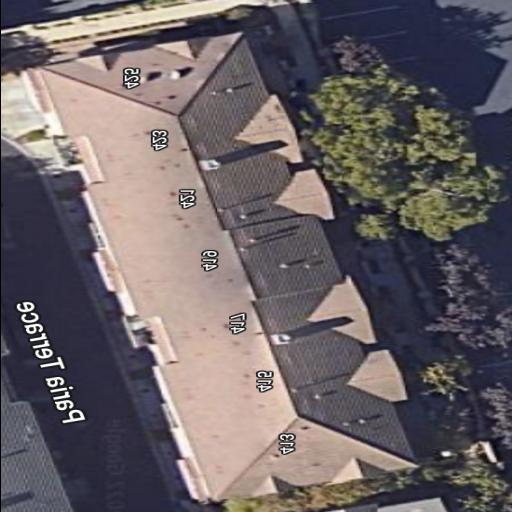Slope-Roof: (28, 34, 418, 500)
